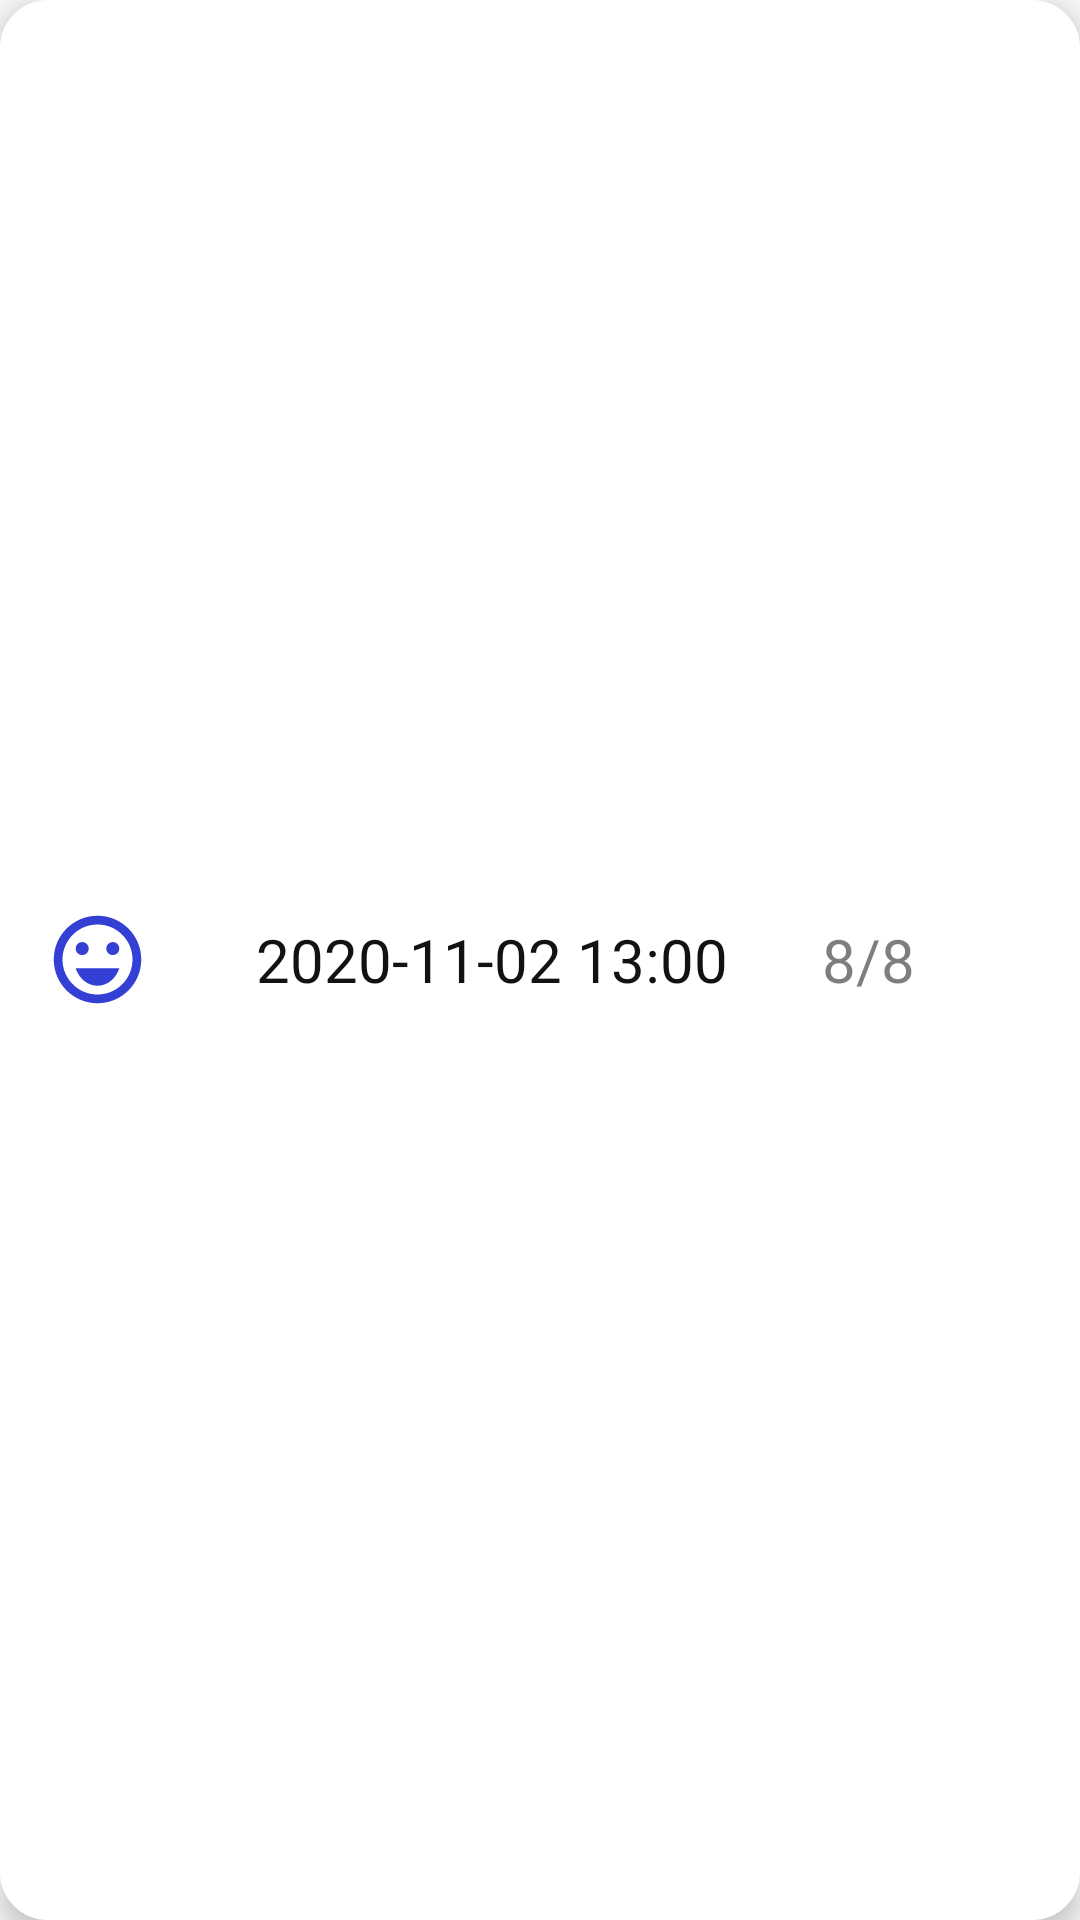

Point at icon controls on the screen. Image size 1080 x 1920, points as [x,y].
sentiment very satisfied: [97,959]
